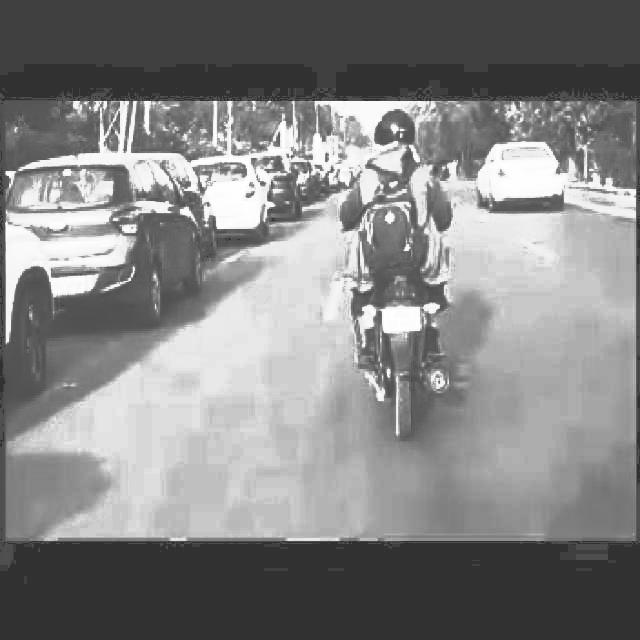Car: (29, 147, 189, 311), (464, 136, 573, 218), (202, 156, 266, 245), (271, 151, 315, 229)
